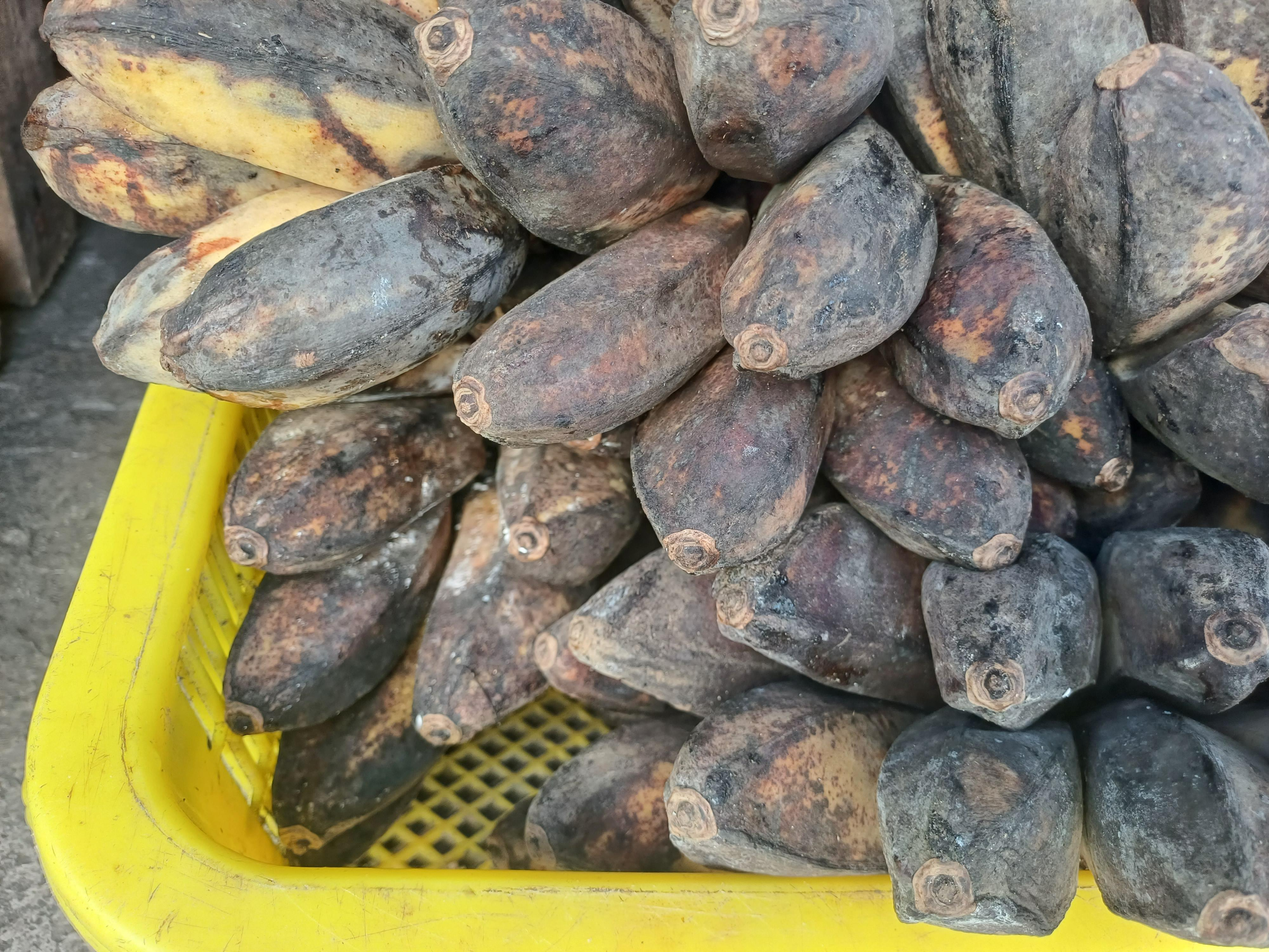overripe: (22, 2, 895, 409), (525, 501, 1269, 947), (450, 119, 1134, 574), (219, 397, 650, 865), (879, 0, 1269, 509)
